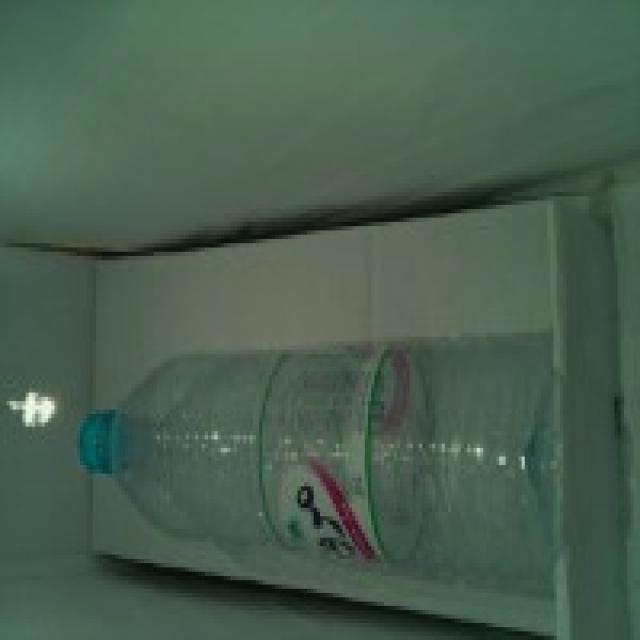bottle: (78, 344, 557, 598)
